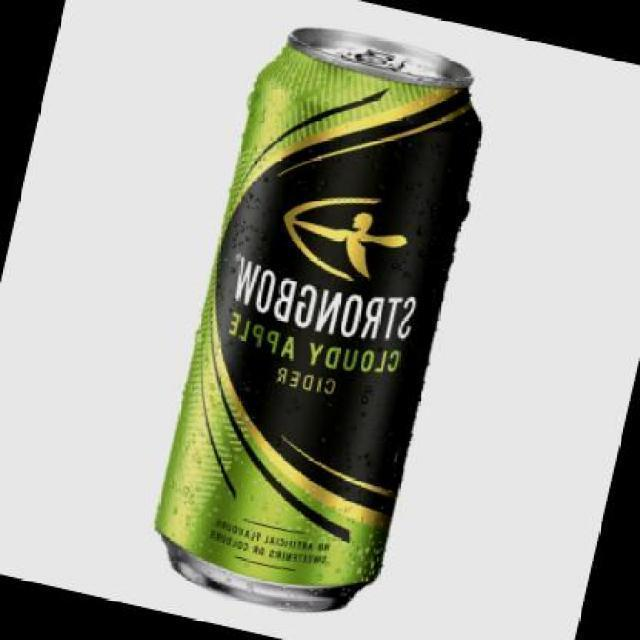can: (147, 21, 485, 616)
